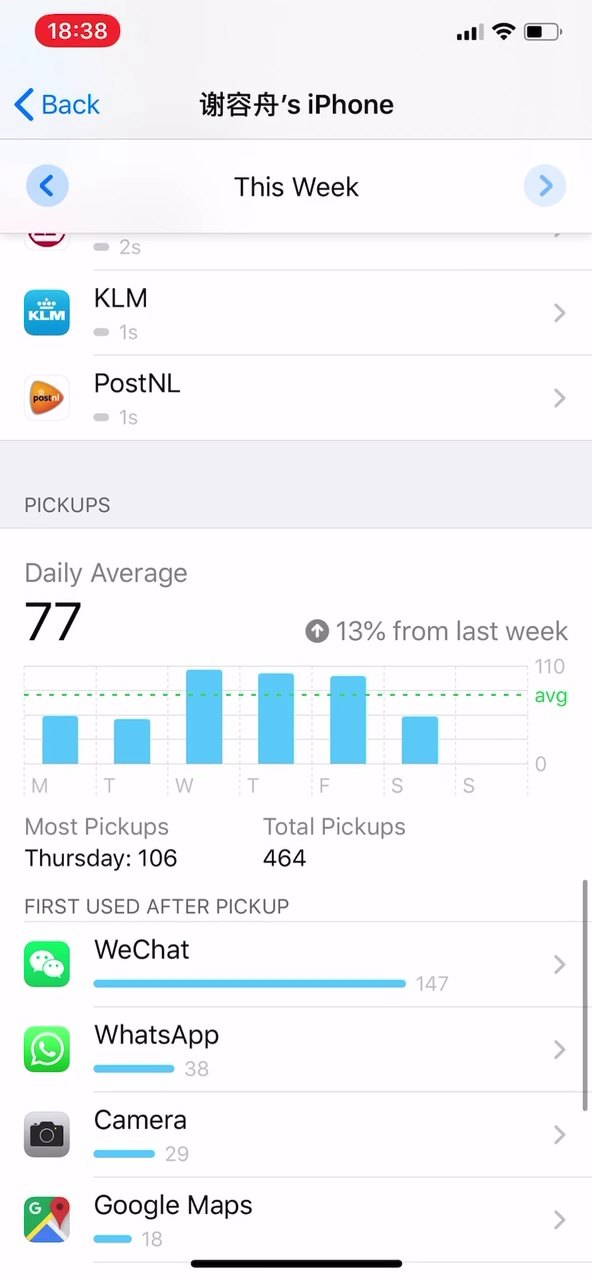pick_app: (15, 928, 484, 1007), (15, 1181, 280, 1258), (15, 1009, 239, 1096), (14, 1101, 217, 1173)
pick_over: (17, 807, 487, 892)
week: (221, 163, 370, 209)
